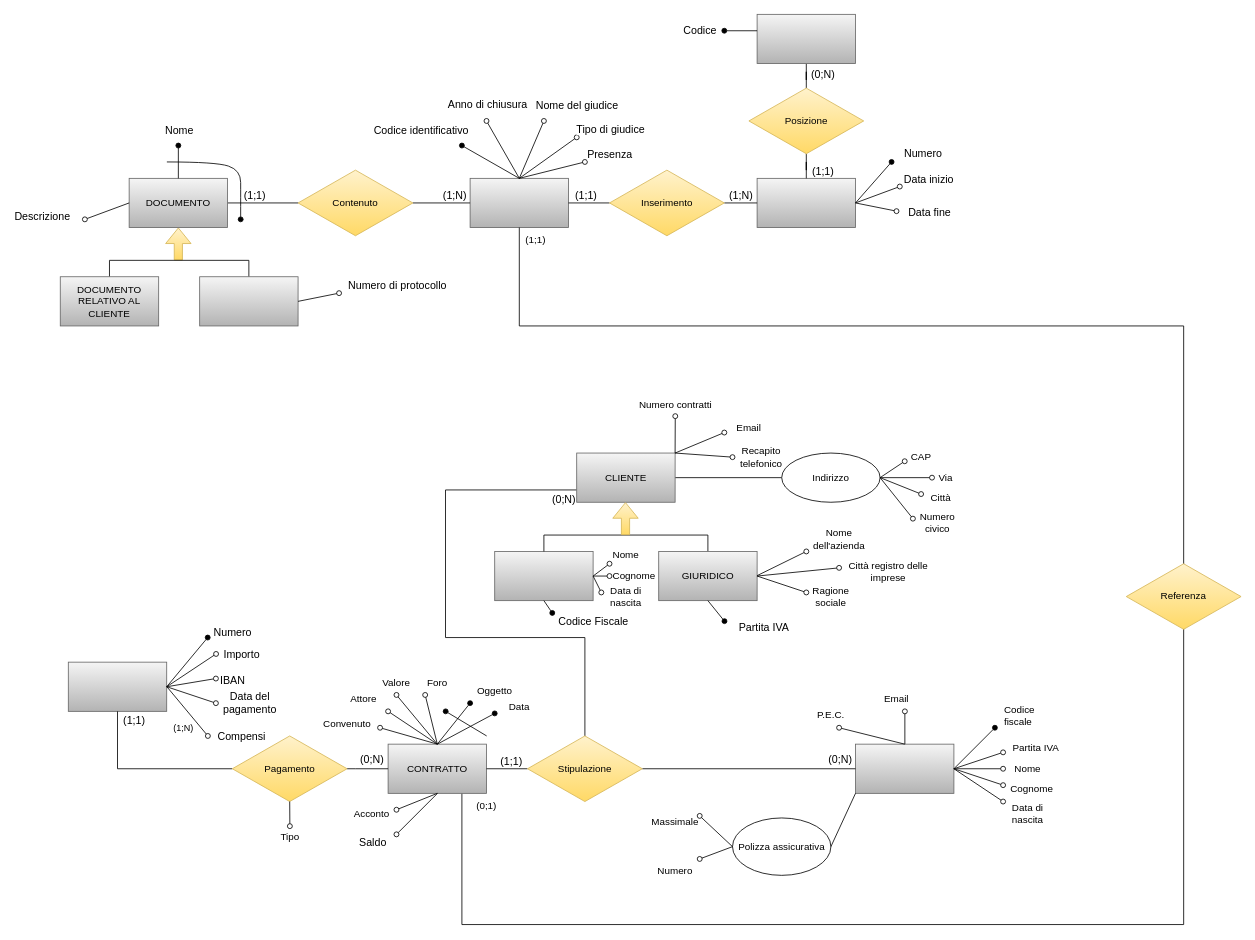
Some shapes in this 1255 by 940 pixel diagram are drawn without their labels. Each missing label, with the centre of its shape:
"AVVOCATO" belongs at [904,768].
"DOCUMENTO RELATIVO AL PROCESSO" belongs at [248,301].
"FALDONE" belongs at [806,203].
"FASCICOLO" belongs at [519,203].
"FATTURA" belongs at [117,686].
"FISICO" belongs at [543,576].
"SCAFFALE" belongs at [806,39].
